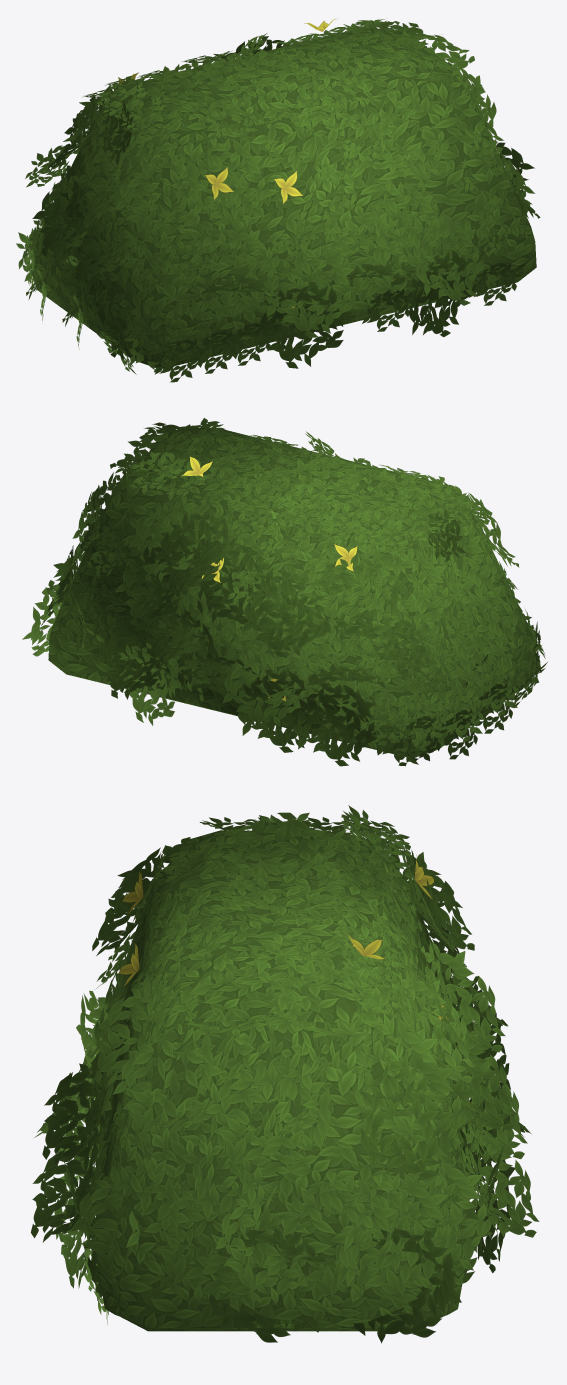
Rendered from bush-green3.glb.
3 views of the same model, one above another, from view 1: azimuth 30°, elevation 25°; view 2: azimuth 150°, elevation 25°; view 3: azimuth 270°, elevation 25° (orthographic). The views are drawn at different scales.
Parts seen in each view (by area): view 1: Bush3; view 2: Bush3; view 3: Bush3.
Part boxes in pixels (x1,y1,x2,y2): Bush3: [16, 18, 540, 382]; Bush3: [22, 418, 547, 766]; Bush3: [31, 805, 539, 1343].
Bounding box in the file's own units: 1.68 × 0.877 × 1.21.
Materials: 1 (1 with a texture image).
